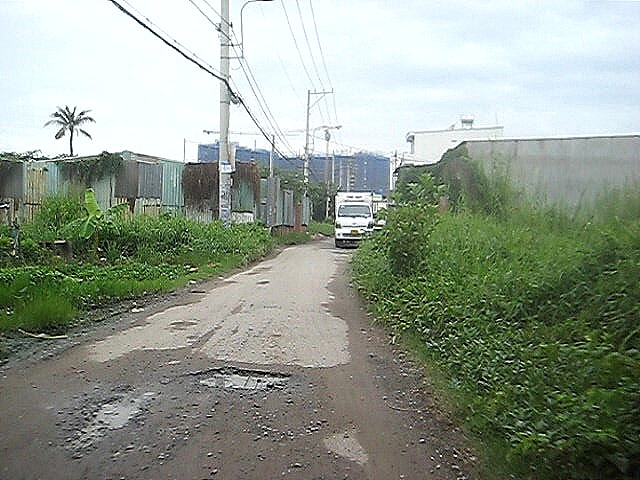hole: (51, 381, 160, 459), (175, 362, 299, 398)
